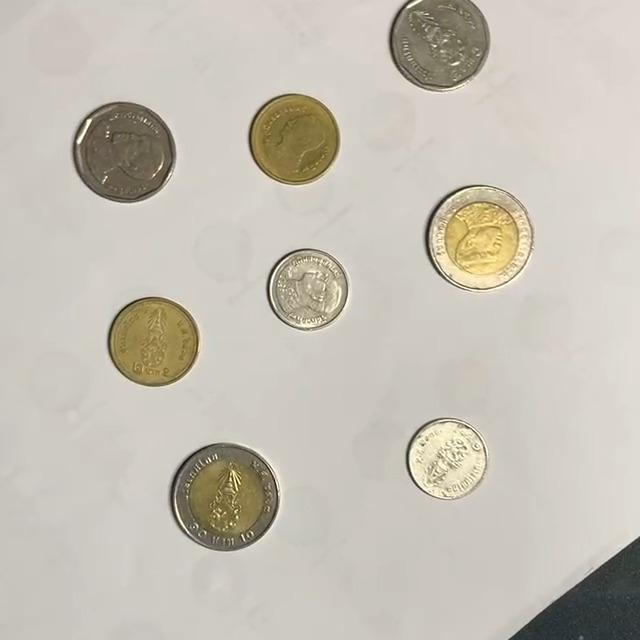1-baht: (406, 418, 491, 502), (267, 248, 351, 331)
10-baht: (172, 443, 281, 551), (429, 186, 535, 292)
2-baht: (249, 93, 342, 185), (108, 296, 201, 388)
5-baht: (74, 102, 177, 203), (389, 0, 492, 93)
